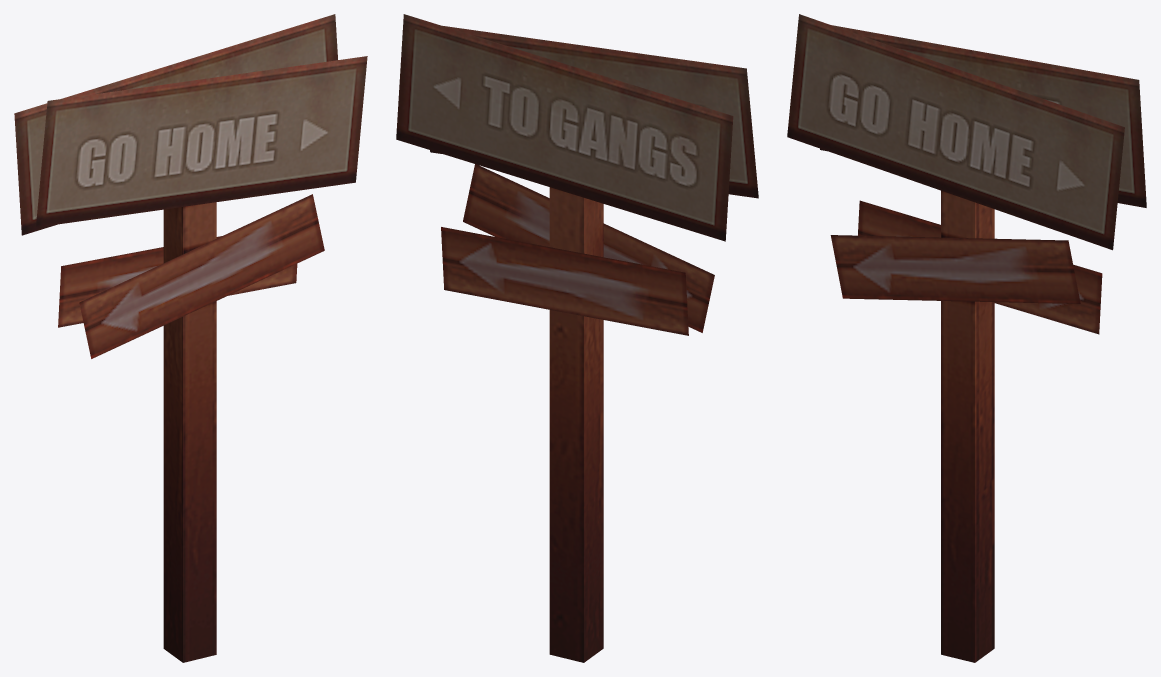
File: S0_Plate.FBX
3 views of the same model, side by side, from view 1: azimuth 30°, elevation 25°; view 2: azimuth 150°, elevation 25°; view 3: azimuth 330°, elevation 25° (orthographic). The views are drawn at different scales.
Parts seen in each view (by area): view 1: S0_Plate; view 2: S0_Plate; view 3: S0_Plate.
Part boxes in pixels (bbox=[...]): S0_Plate: bbox=[14, 14, 367, 662]; S0_Plate: bbox=[396, 14, 758, 662]; S0_Plate: bbox=[787, 14, 1146, 662].
Bounding box in the file's own units: 1484 × 182 × 2552.
